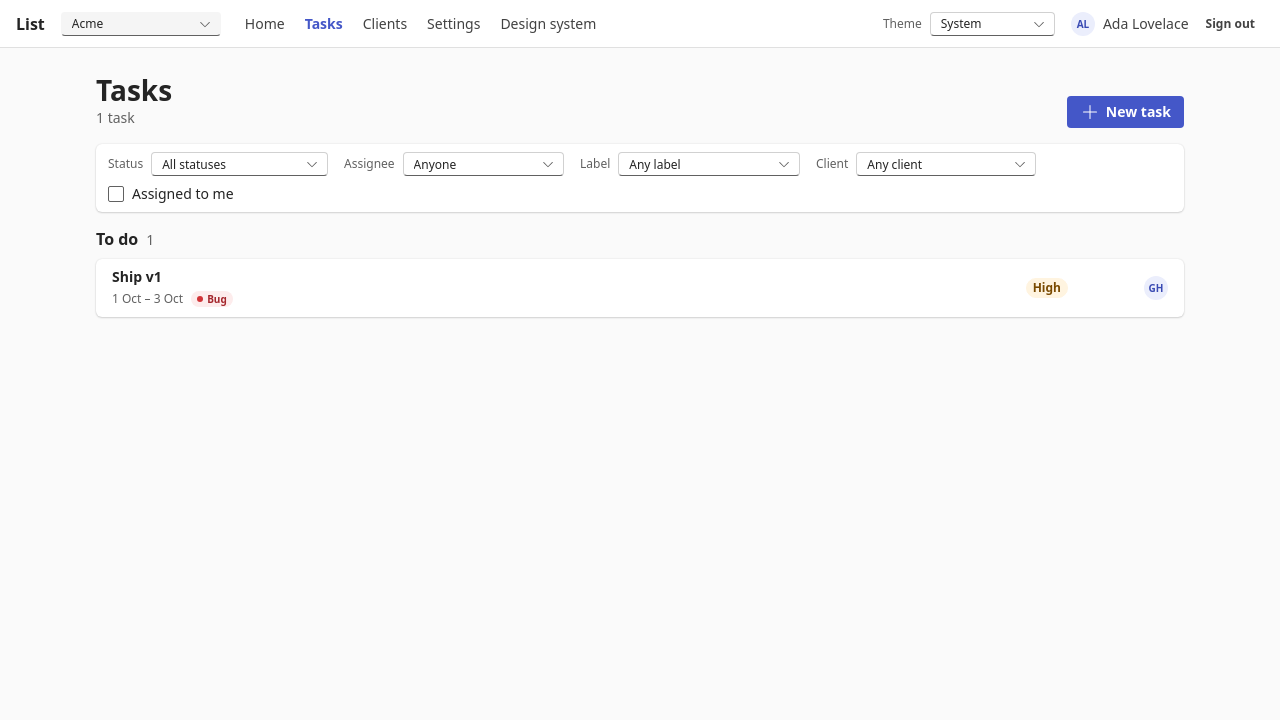
tasks page › opens a task, saves only the changed field, and guards unsaved changes
This screenshot has width=1280, height=720.
Click the link "Ship v1 1 Oct – 3 Oct Bug High GH" at (137, 276), box [96,259,1184,317]
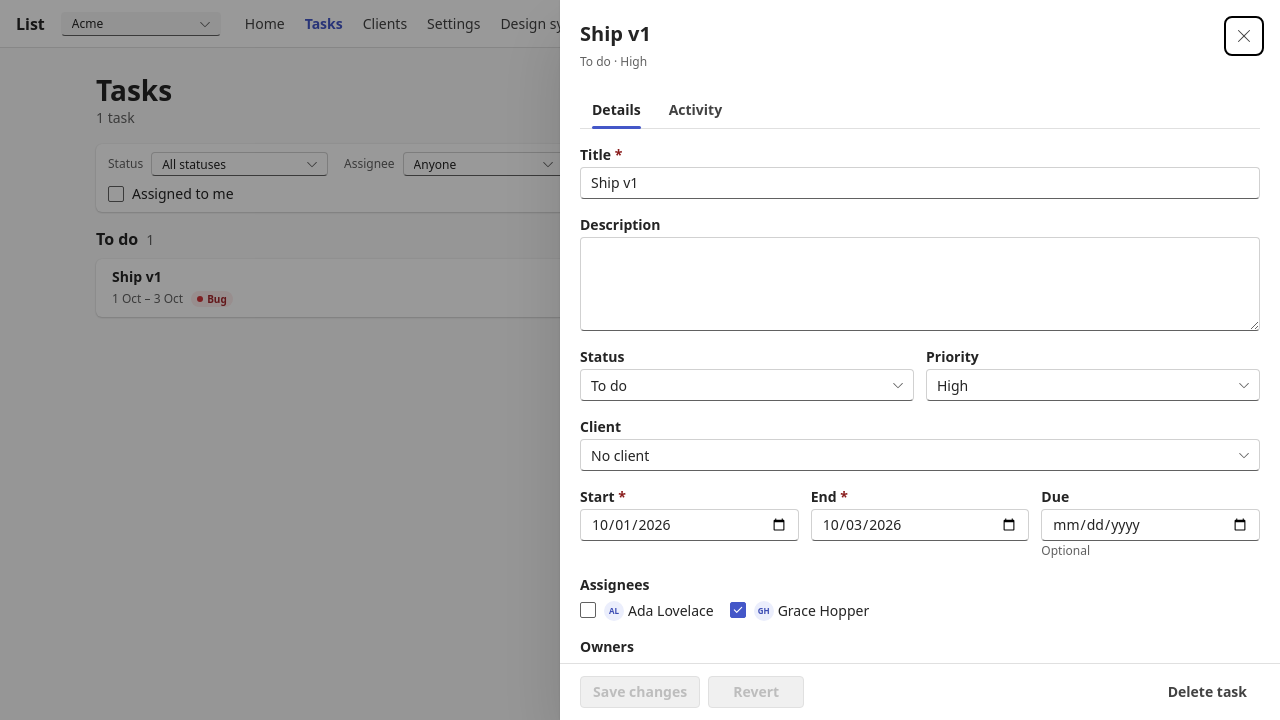
Replace the text in the field labelled "Title *" with "Ship v1.1" at (920, 183), box [580,167,1260,199]
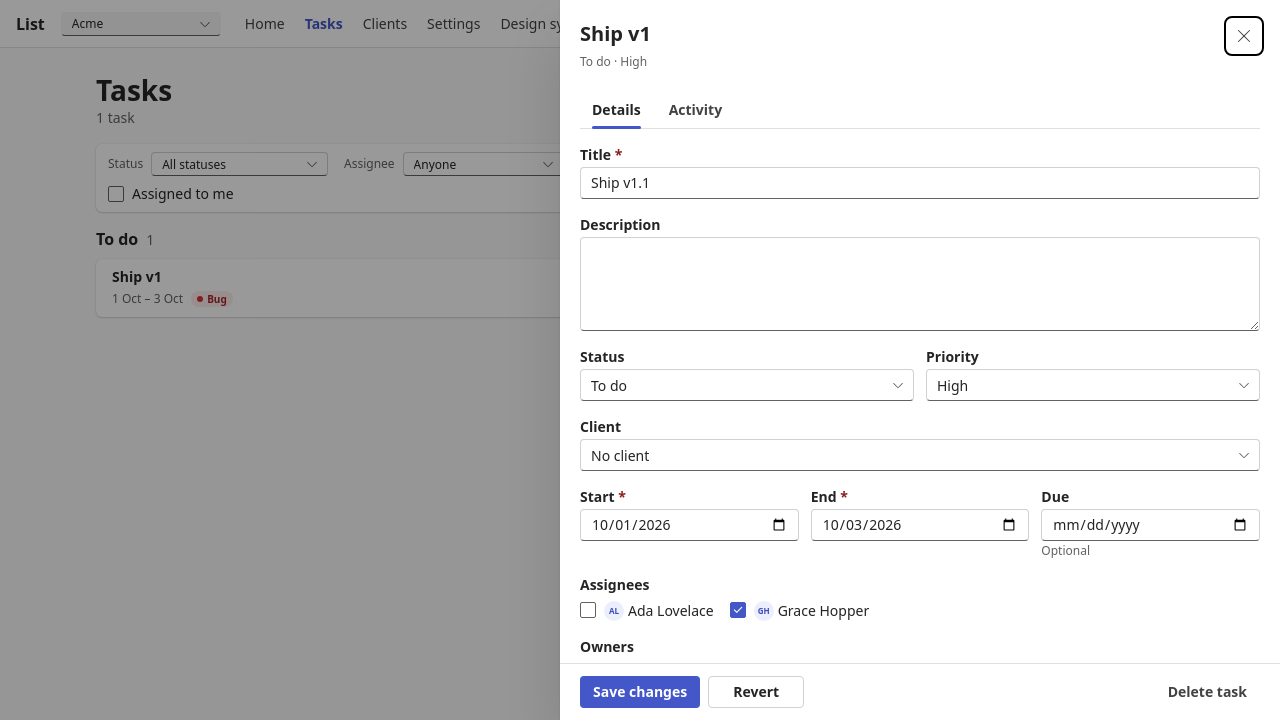
Note: Closing with unsaved changes asks first.
Click the button named "Close" at (1244, 36), box [1228,20,1260,52]
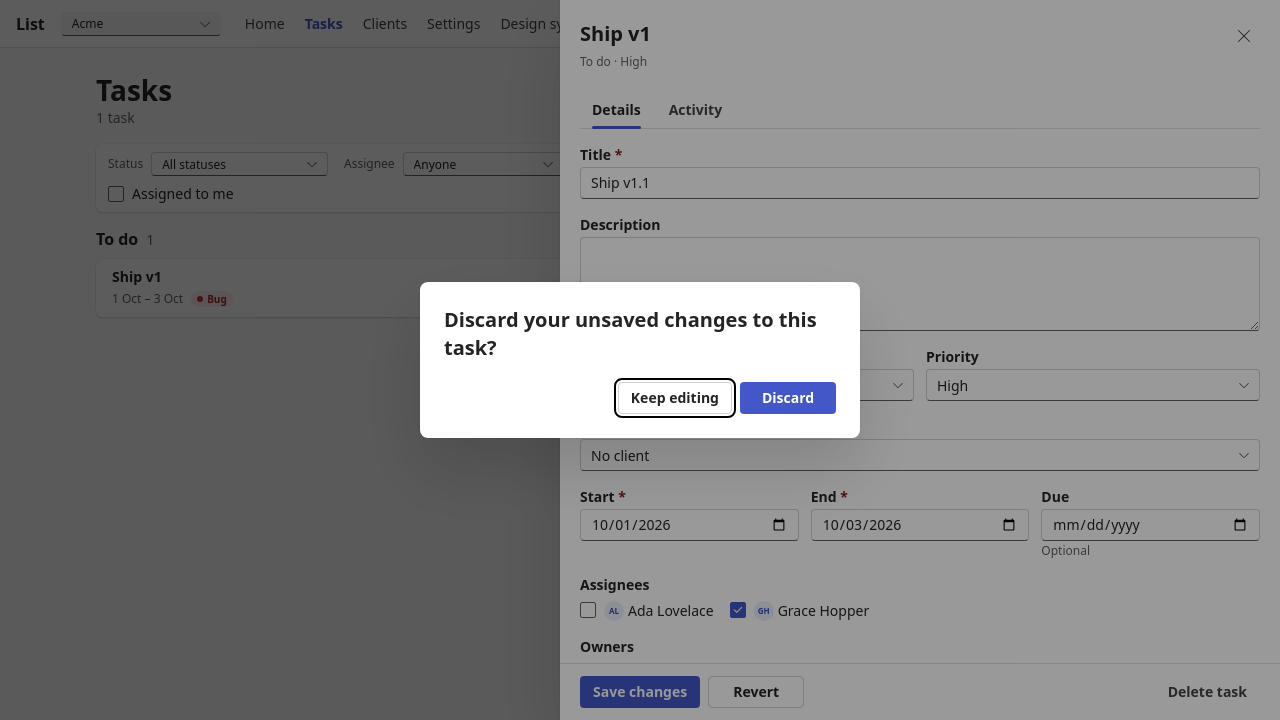
Click the button "Keep editing" at (675, 398), box [618,382,732,414]
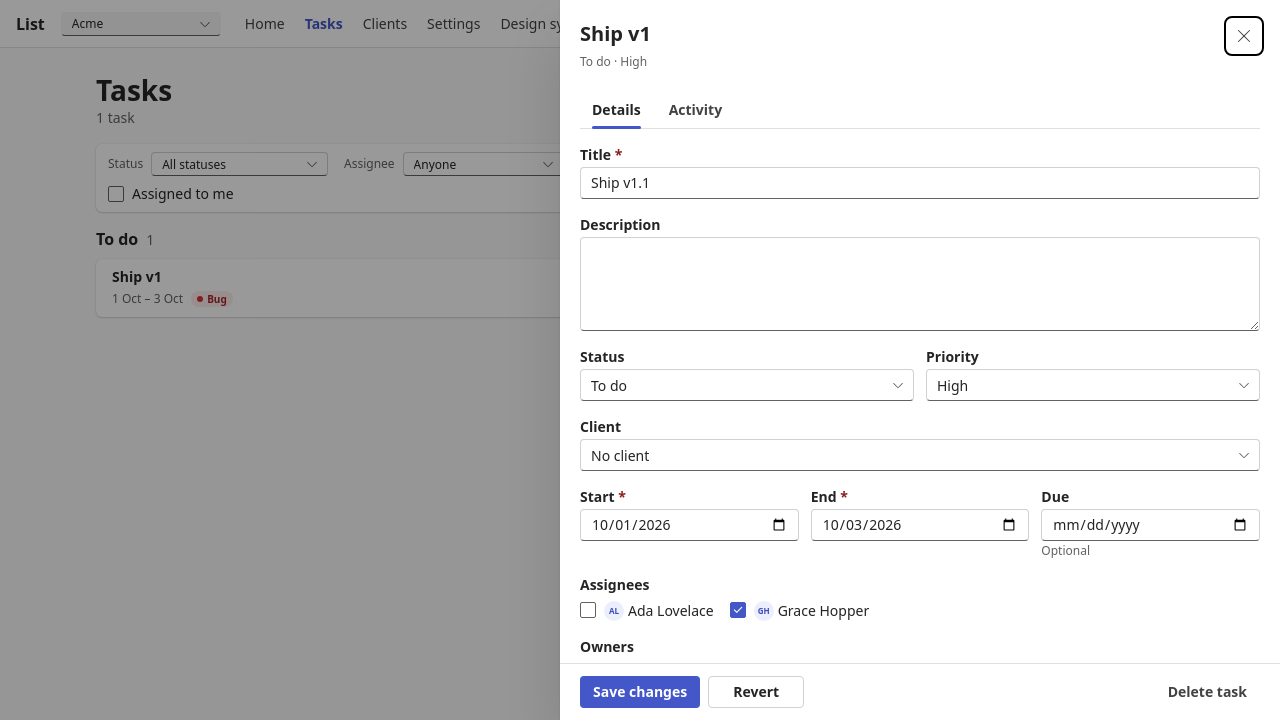
Click the button "Save changes" at (640, 692), box [580,676,700,708]
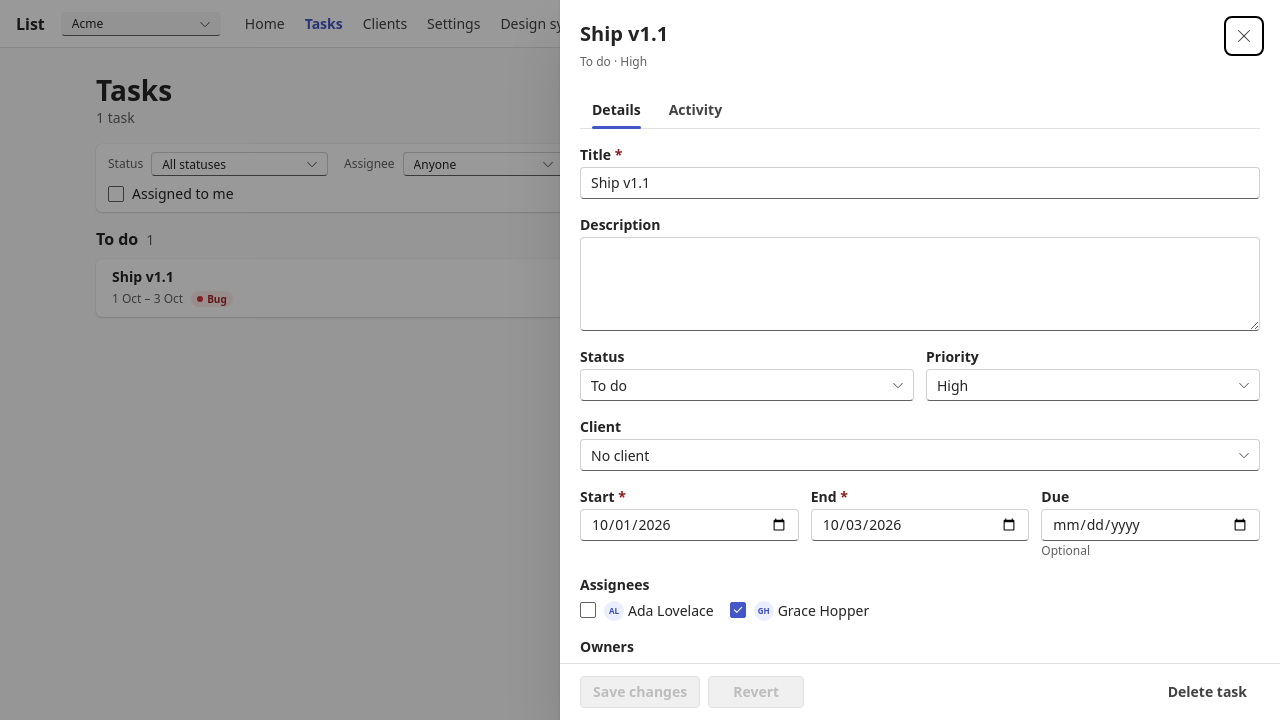
Now the dialog "Ship v1.1" is shown, box [560,0,1279,719]
